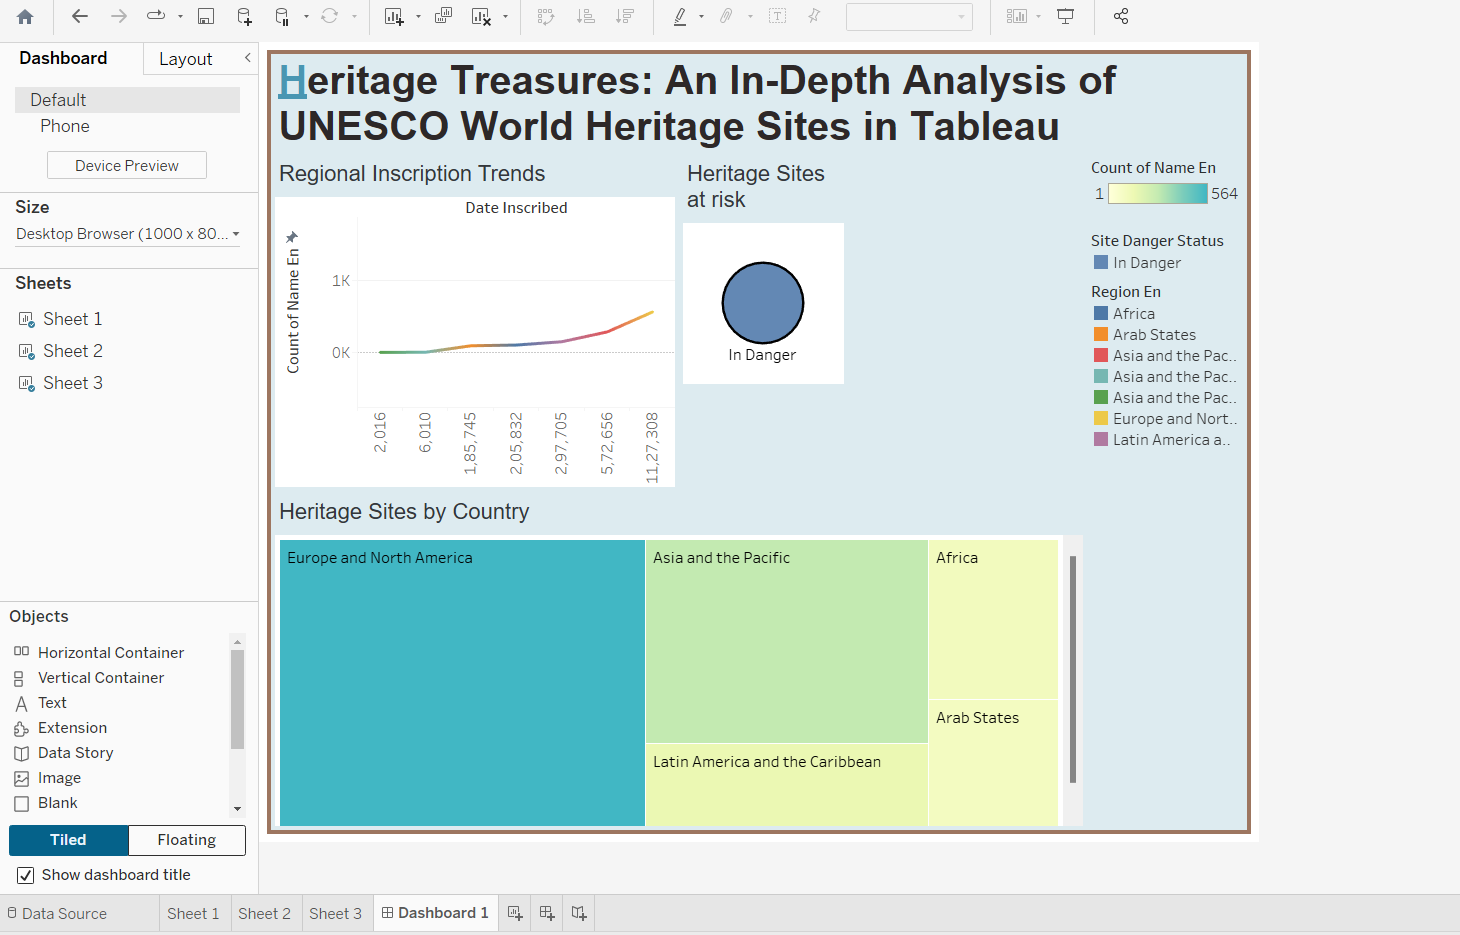

The page's visual inventory and layout, read from the dashboard file:
{"tool":"tableau","page":{"name":"Dashboard 1","canvas":[1000,800],"ordinal":0},"visuals":[{"type":"title","box":[12,12,976,99]},{"type":"worksheet","title":"Sheet 3","mark":"Line","rows":["name_en"],"cols":["date_inscribed"],"box":[12,111,408,338.5]},{"type":"worksheet","title":"Sheet 2","mark":"Pie","box":[420,111,408,338.5]},{"type":"legend","title":"Sheet 1","param":"[federated.14q5akm1y8it8j1c1l0bq13slaq4].[cnt:name_en:qk]","box":[828,111,160,73]},{"type":"legend","title":"Sheet 2","param":"[federated.14q5akm1y8it8j1c1l0bq13slaq4].[none:Calculation_2183401418315501568:n","box":[828,184,160,51]},{"type":"legend","title":"Sheet 3","param":"[federated.14q5akm1y8it8j1c1l0bq13slaq4].[none:region_en:nk]","box":[828,235,160,177]},{"type":"worksheet","title":"Sheet 1","mark":"Automatic","box":[12,449.5,816,338.5]}]}

Visuals, with their boxes in screenshot pixels (x1, y1, x2, y2):
title: {"x1": 269, "y1": 14, "x2": 1436, "y2": 133}
"Sheet 3" worksheet (Line marks): {"x1": 269, "y1": 133, "x2": 757, "y2": 537}
"Sheet 2" worksheet (Pie marks): {"x1": 757, "y1": 133, "x2": 1244, "y2": 537}
"Sheet 1" legend: {"x1": 1244, "y1": 133, "x2": 1436, "y2": 220}
"Sheet 2" legend: {"x1": 1244, "y1": 220, "x2": 1436, "y2": 281}
"Sheet 3" legend: {"x1": 1244, "y1": 281, "x2": 1436, "y2": 492}
"Sheet 1" worksheet: {"x1": 269, "y1": 537, "x2": 1244, "y2": 934}
